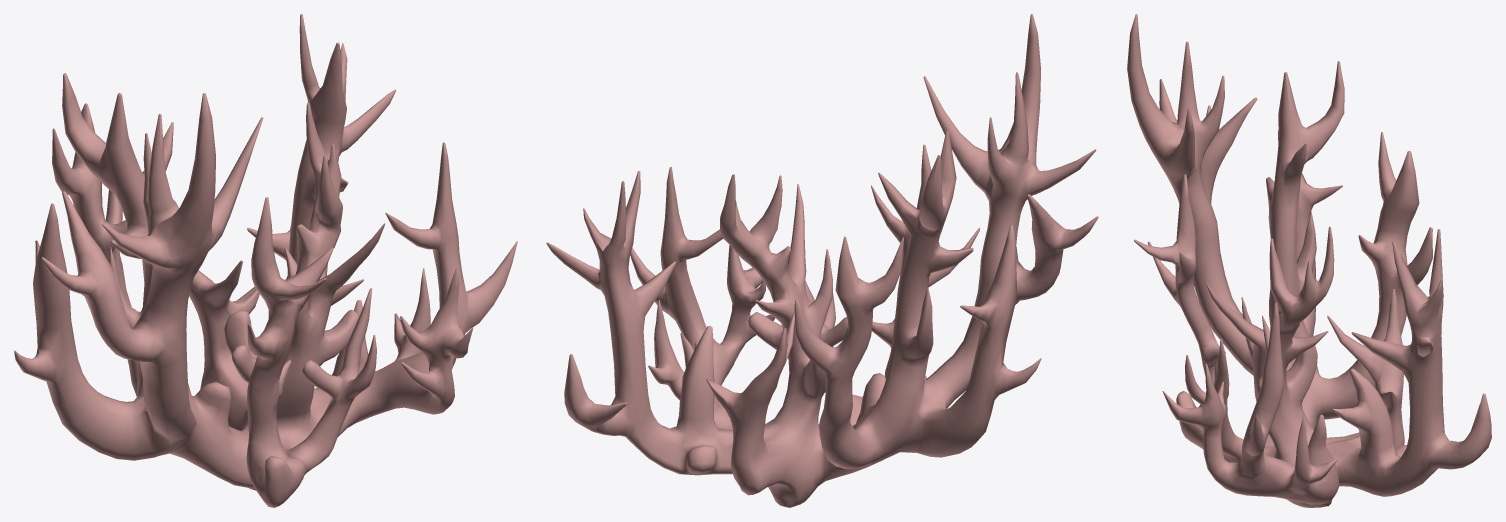
Rendered from SM_ocean_staghornCoral_02.fbx.
3 views of the same model, side by side, from view 1: azimuth 30°, elevation 25°; view 2: azimuth 150°, elevation 25°; view 3: azimuth 270°, elevation 25° (orthographic). The views are drawn at different scales.
Parts seen in each view (by area): view 1: SM_ocean_staghornCoral_02_LOD0; view 2: SM_ocean_staghornCoral_02_LOD0; view 3: SM_ocean_staghornCoral_02_LOD0.
Boxes of the visible parts, bbox=[...] form: SM_ocean_staghornCoral_02_LOD0: bbox=[14, 14, 517, 507]; SM_ocean_staghornCoral_02_LOD0: bbox=[546, 14, 1098, 507]; SM_ocean_staghornCoral_02_LOD0: bbox=[1127, 14, 1491, 507].
Size of what is drawn, in the model's own units: 106 by 80.41 by 103.
